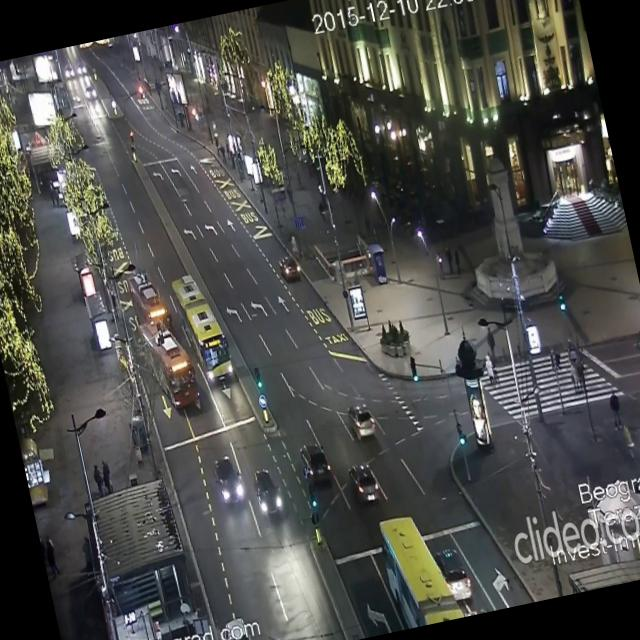bus: (374, 506, 464, 630), (168, 266, 236, 386), (134, 315, 202, 411), (122, 261, 166, 334)
car: (210, 452, 247, 508), (250, 464, 284, 518), (297, 440, 332, 486), (346, 459, 380, 506), (345, 399, 377, 441), (218, 615, 258, 640), (276, 254, 302, 284), (84, 86, 98, 102), (76, 61, 88, 77), (64, 67, 76, 81)
